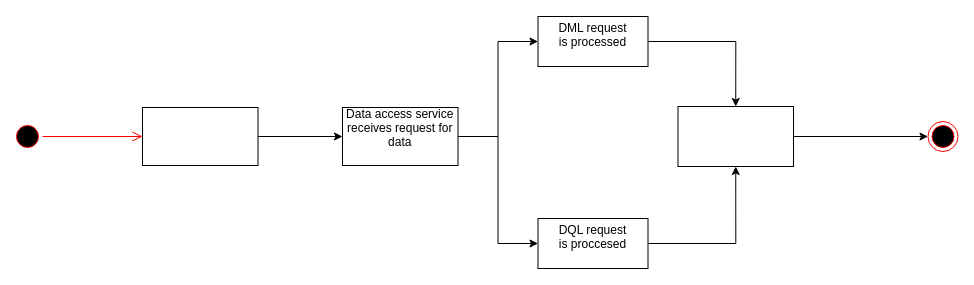
Some shapes in this 974 by 285 pixel diagram are drawn without their labels. Here are the shapes that lost their labels. From the top down, the box of each, then its label:
(142, 106, 258, 166): User management service retrieves data
(677, 106, 794, 166): Django database API execute sql command
